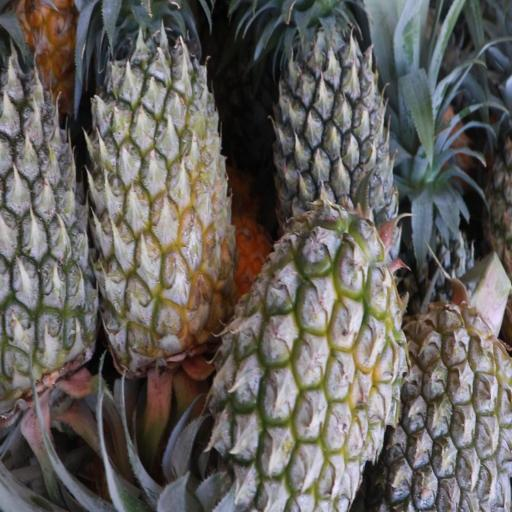------------------------------: (216, 213, 395, 512), (89, 7, 232, 362)
